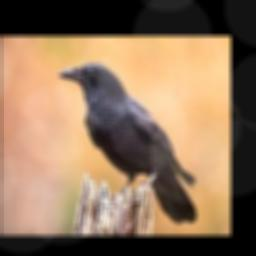Crow: (57, 63, 198, 224)
